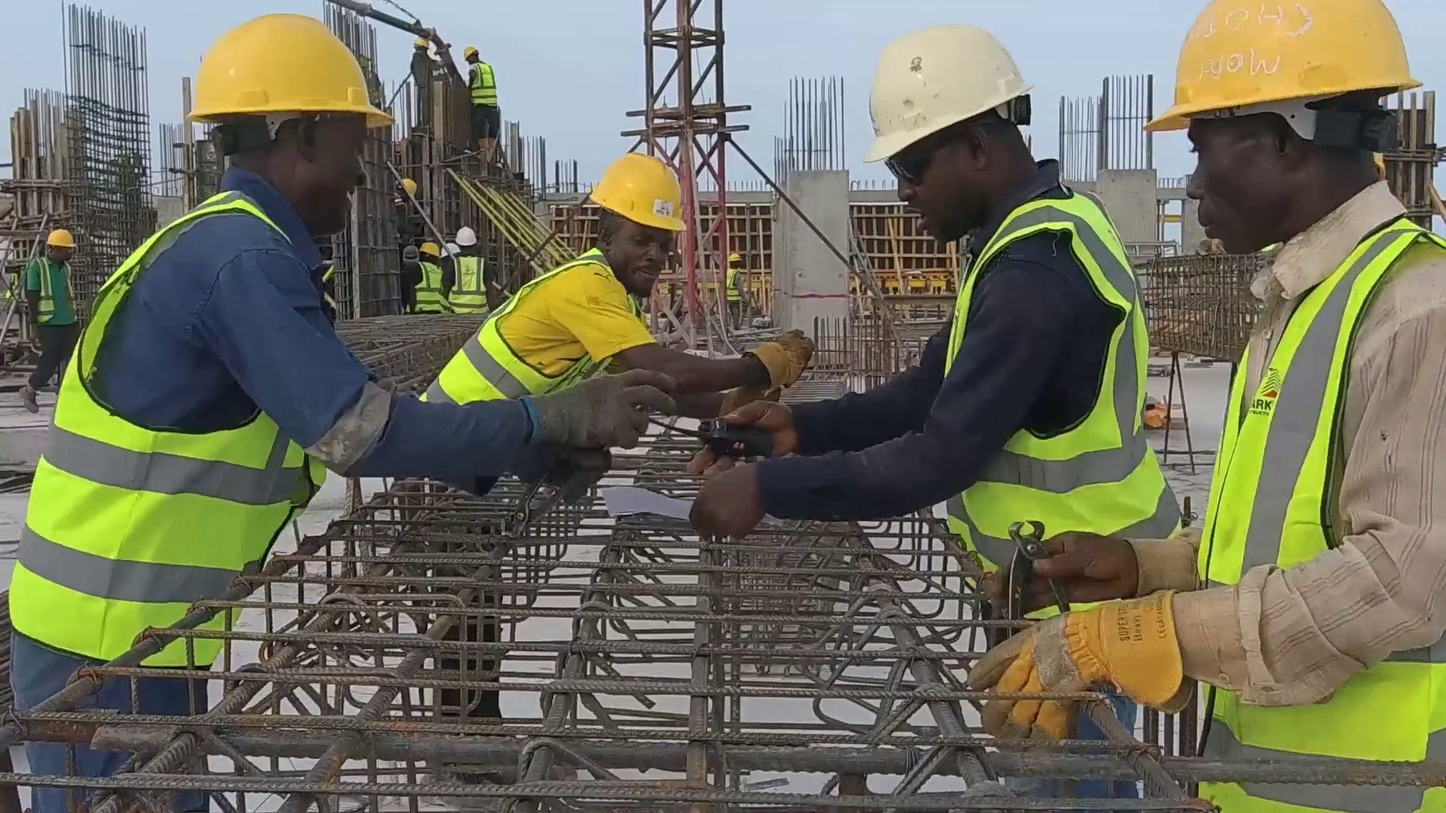helmet: (1141, 0, 1423, 131), (862, 24, 1033, 163), (187, 14, 395, 128), (589, 151, 687, 232), (47, 230, 75, 250), (456, 227, 477, 245), (419, 242, 440, 257), (402, 178, 417, 196), (413, 38, 431, 50), (464, 46, 478, 60), (730, 253, 742, 262)
person: (10, 17, 677, 813), (969, 1, 1446, 813), (679, 23, 1188, 595), (418, 151, 816, 413), (18, 229, 80, 417), (461, 43, 502, 167), (440, 227, 493, 315), (406, 36, 441, 136), (407, 241, 449, 316), (393, 178, 425, 274), (725, 253, 755, 331)
